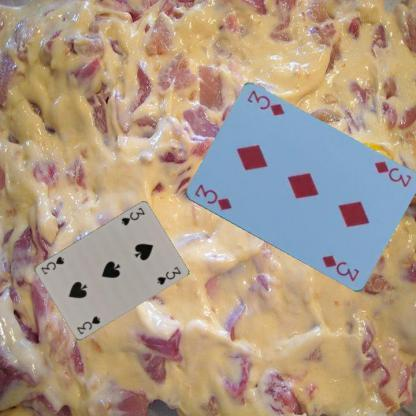3d: (370, 158, 413, 189), (191, 182, 233, 212)
3s: (118, 204, 146, 228), (74, 314, 102, 336)
